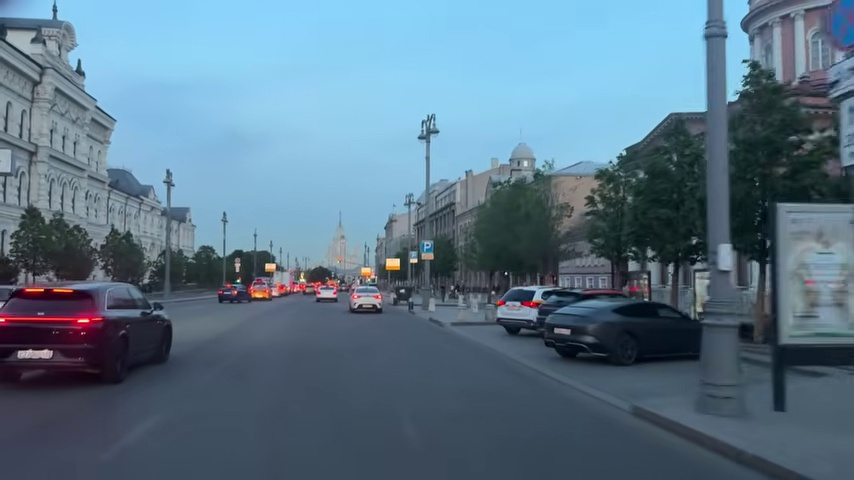apagada: (415, 119, 441, 146)
